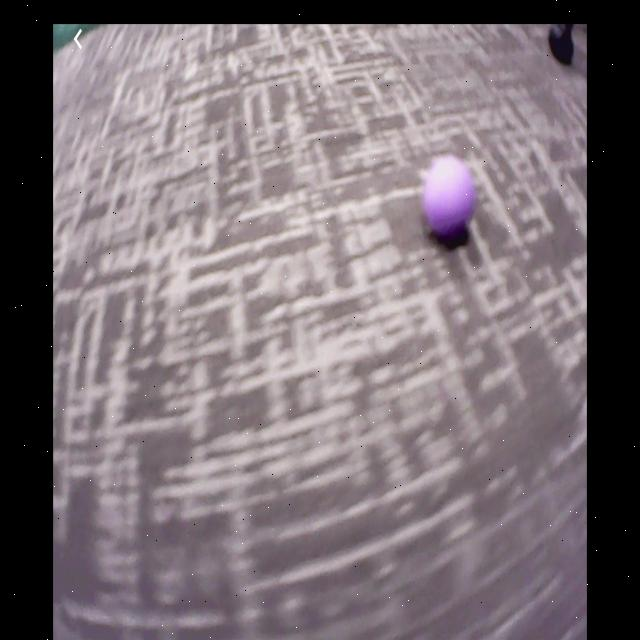ball: (425, 155, 474, 233)
